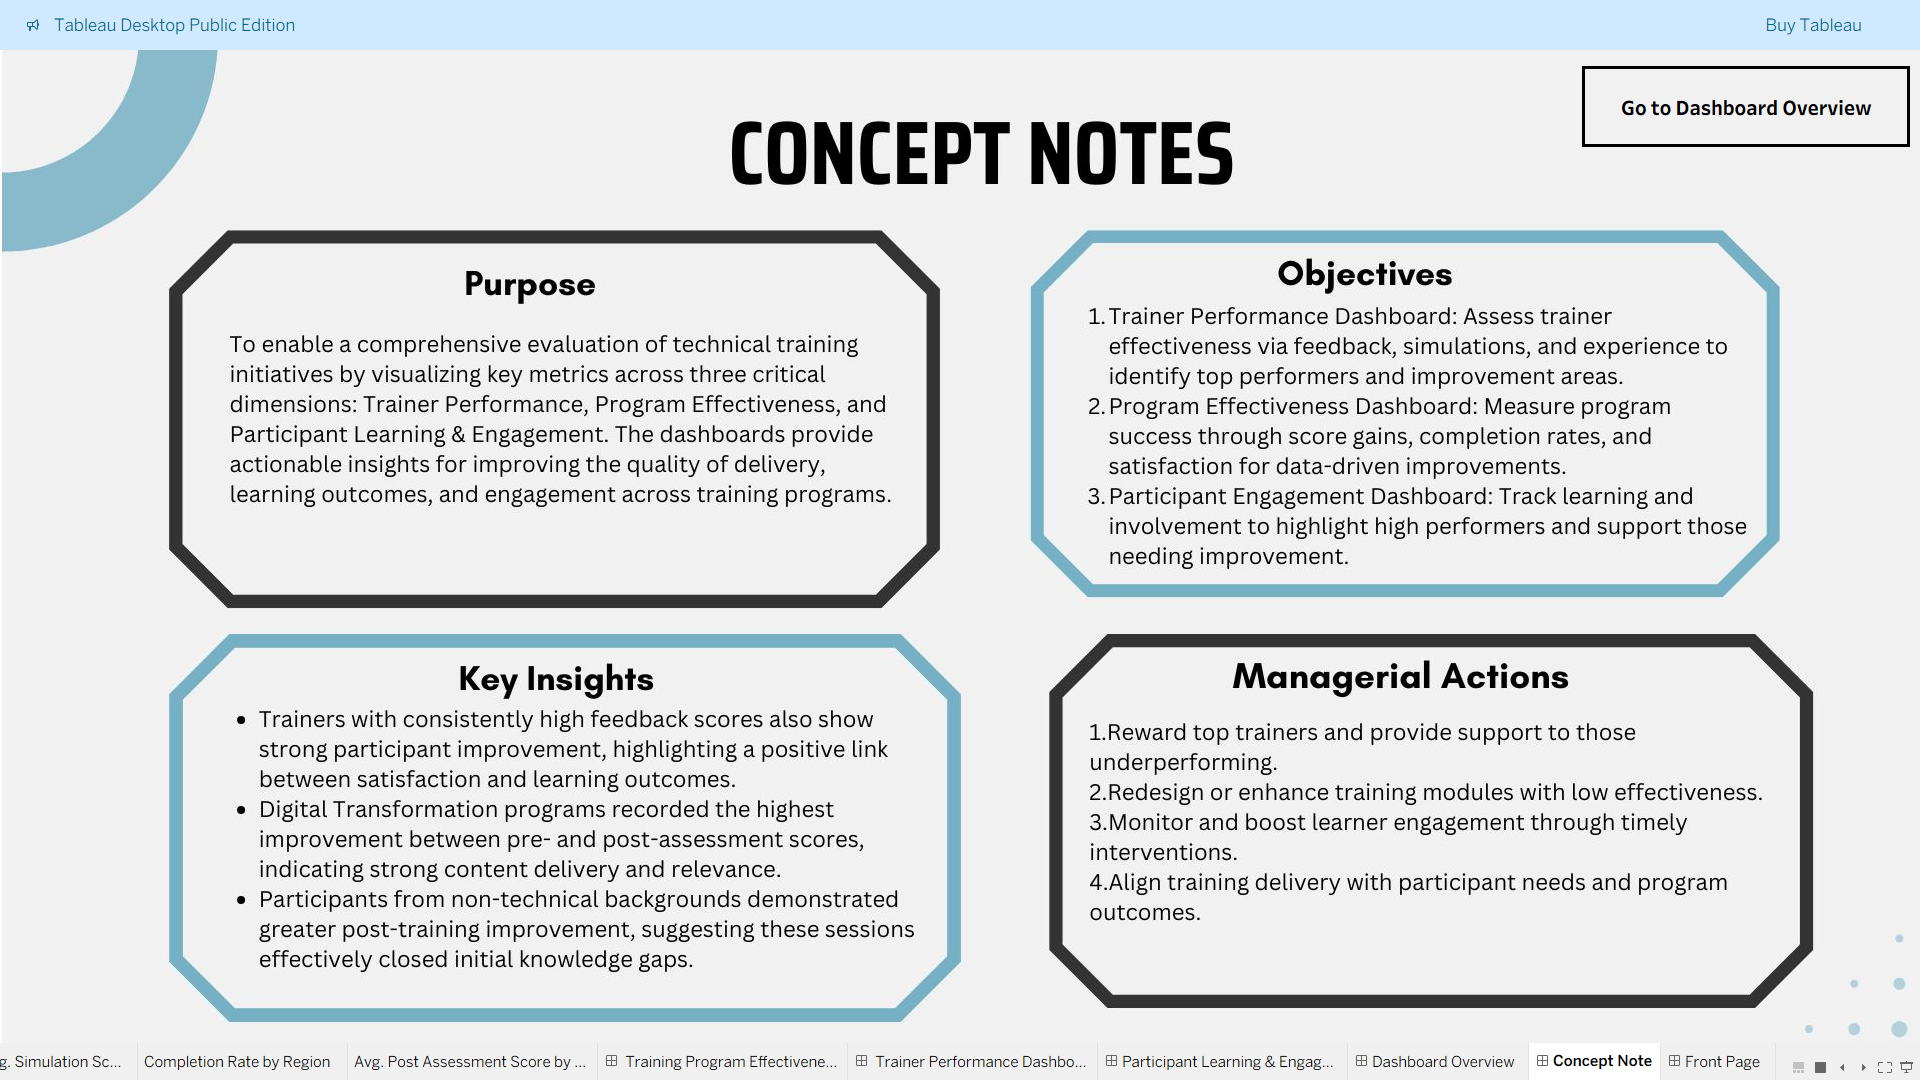

This screenshot's page, from the dashboard's own definition file:
{"tool":"tableau","page":{"name":"Concept Note","canvas":[1000,1000],"units":"permille","ordinal":2},"visuals":[{"type":"text","box":[4.2,8.7,992.9,64.9]},{"type":"dashboard-object","box":[823.8,16.2,170.8,81.2]}]}

Visuals, with their boxes on the dashboard's canvas, which has no fixed pixel size, in thousandths of its width and height (x1, y1, x2, y2). These are canvas units, not pixel positions in the 1920x1080 screenshot, which may show the page scaled, cropped or inside an application window:
text: [4, 9, 997, 74]
dashboard-object: [824, 16, 995, 97]
